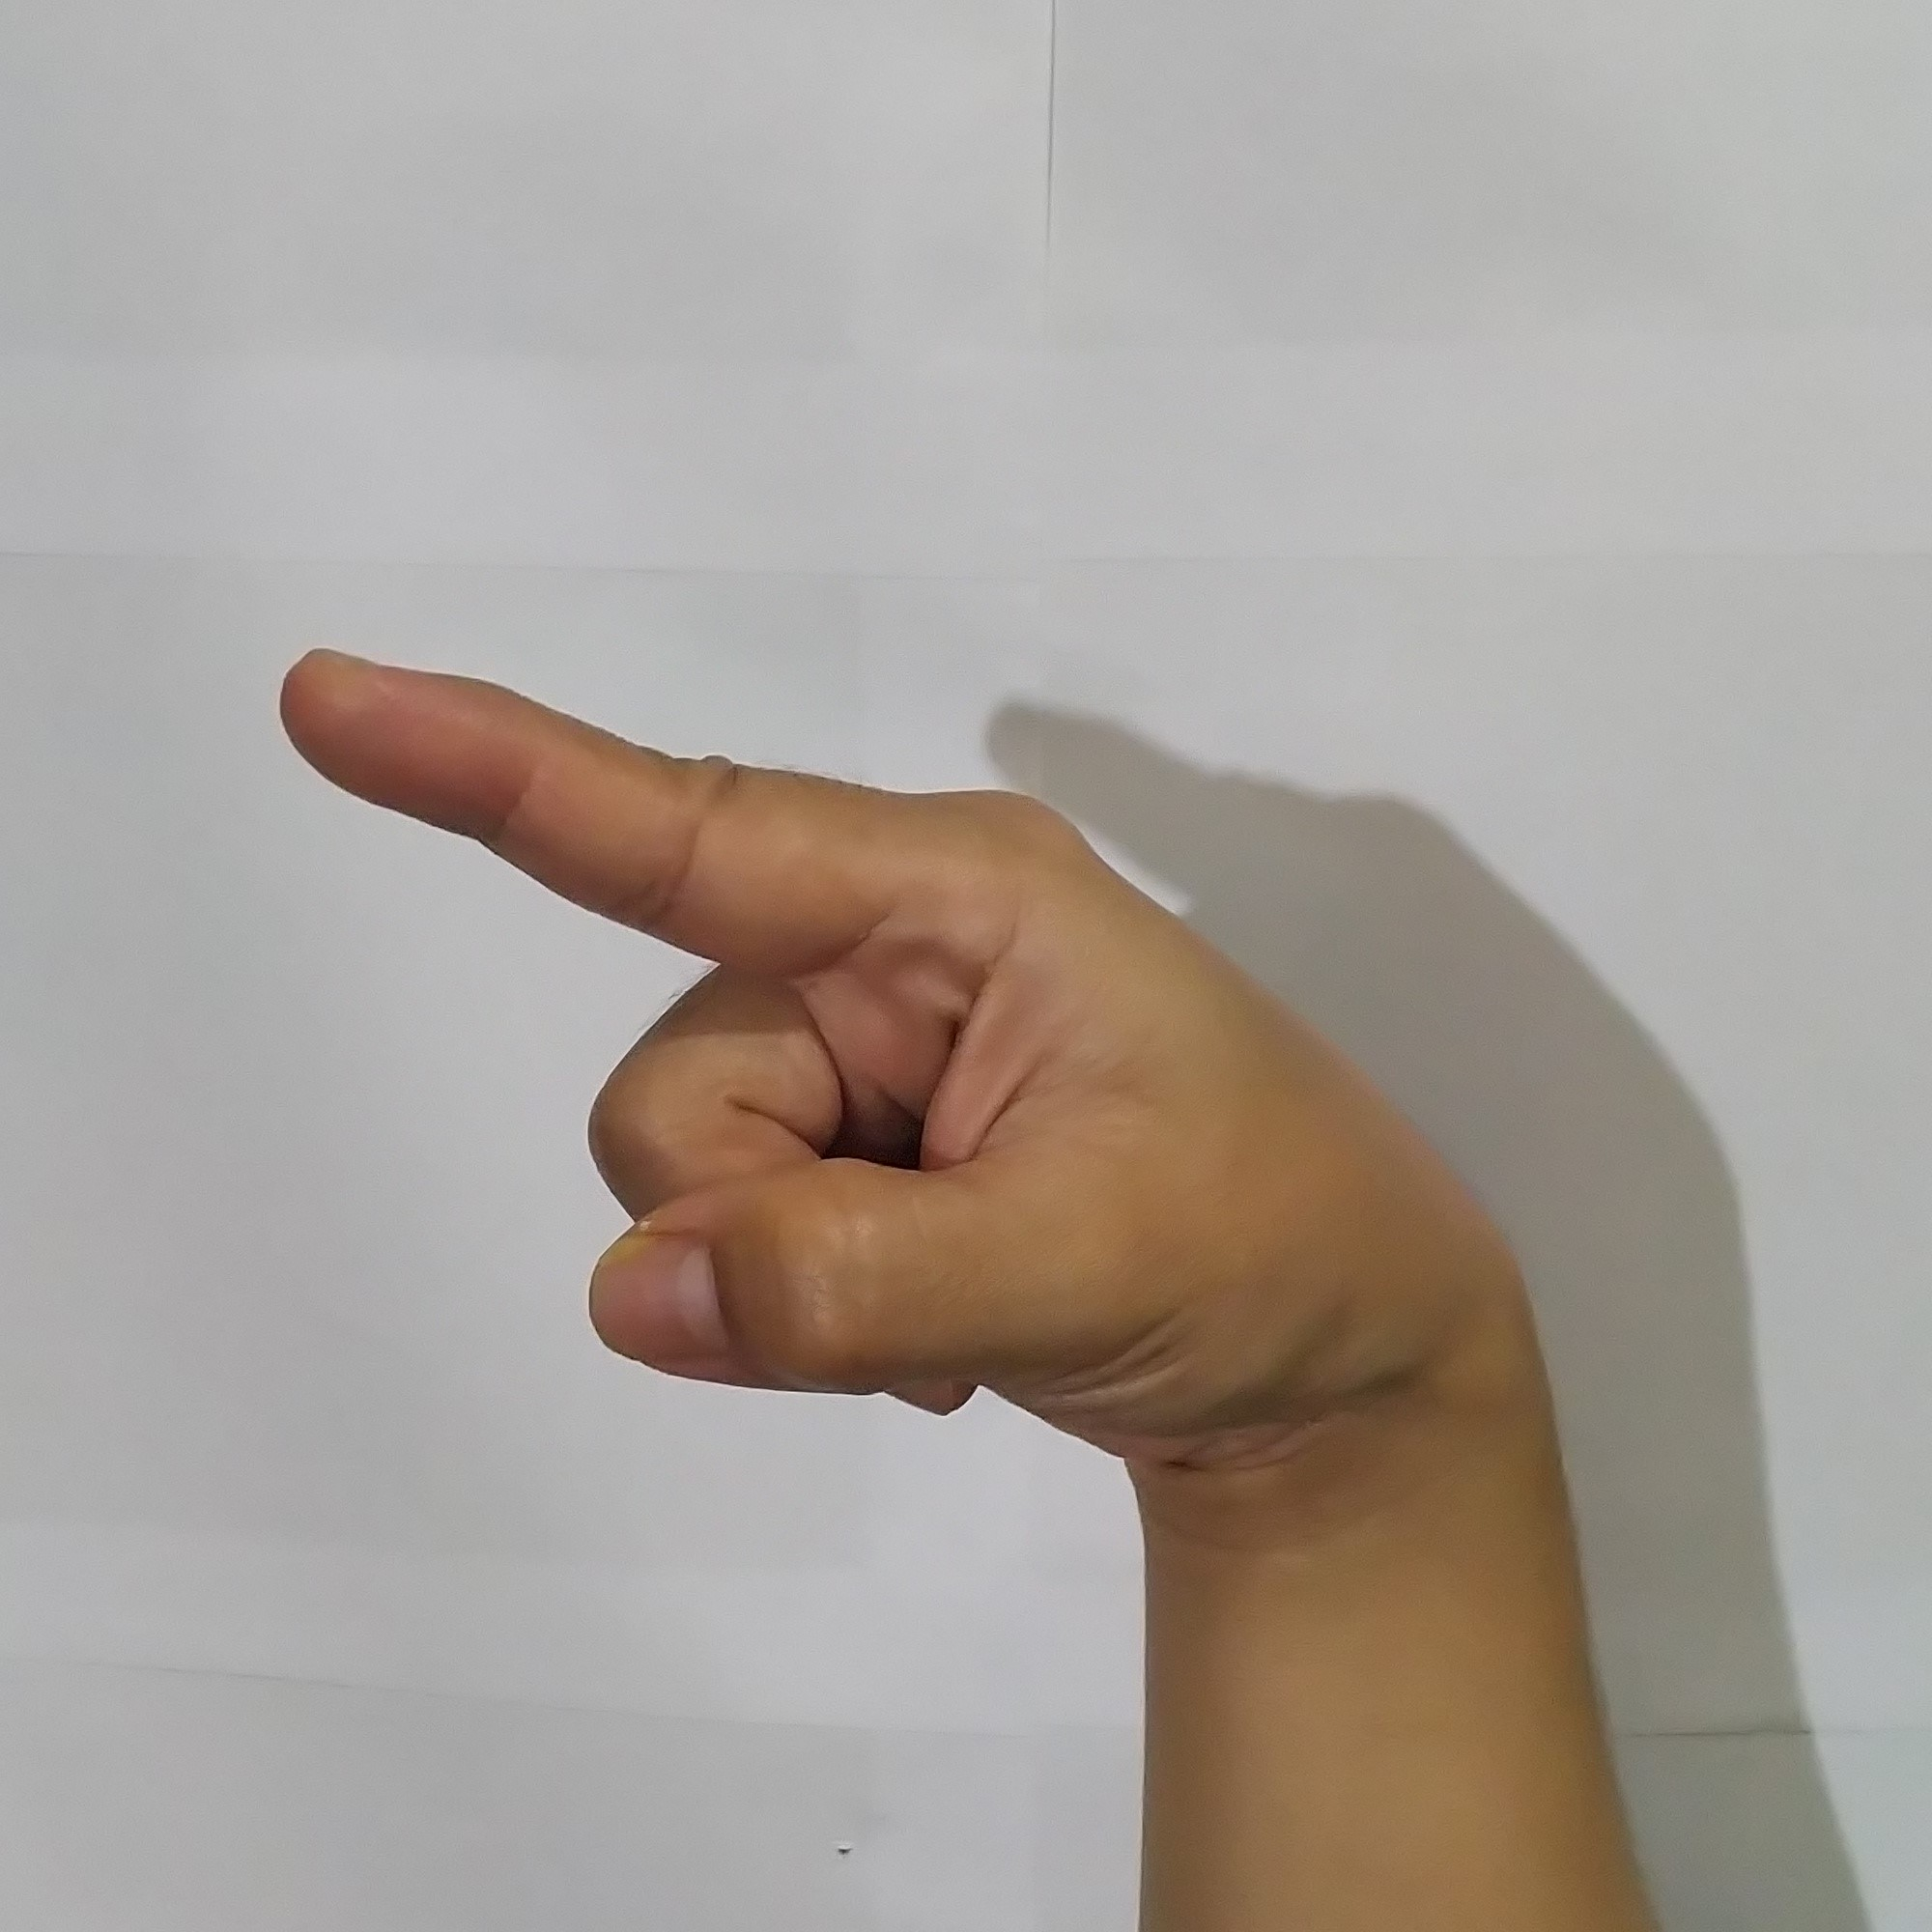Z: (249, 609, 1483, 1467)
